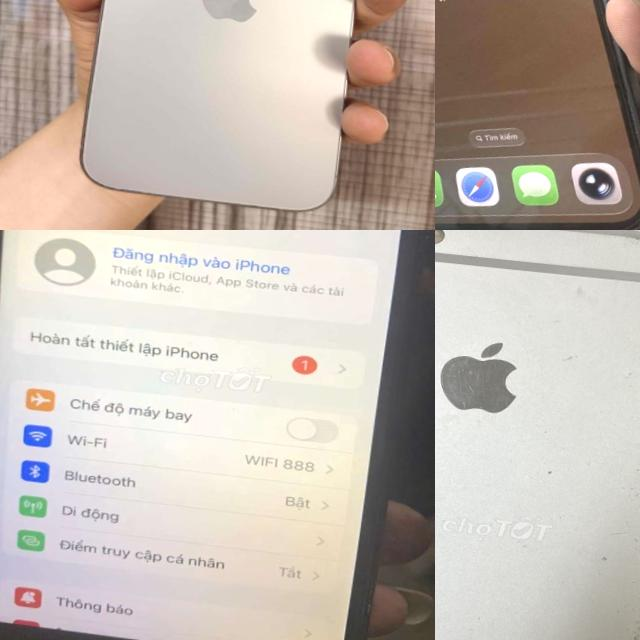scratch: (435, 314, 553, 437), (608, 337, 640, 640), (528, 230, 640, 279)
